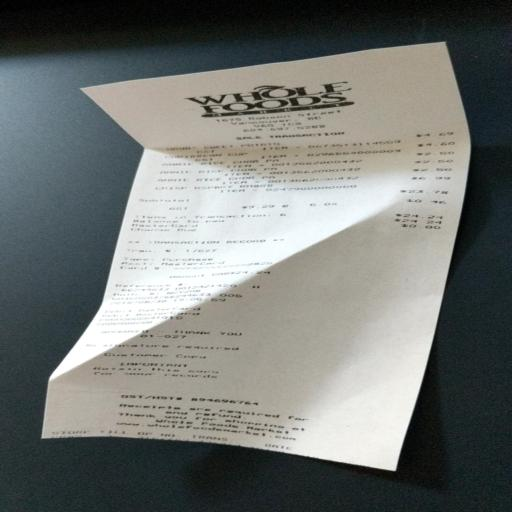paper: (17, 25, 490, 497)
